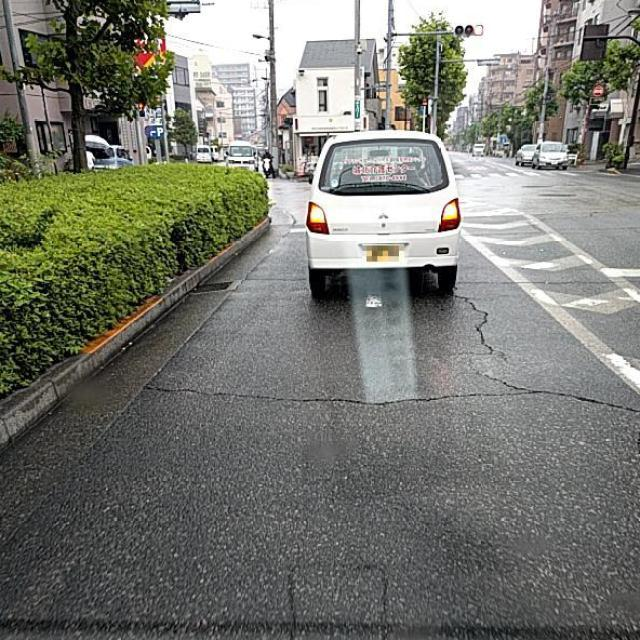Melintang: (141, 369, 640, 433)
